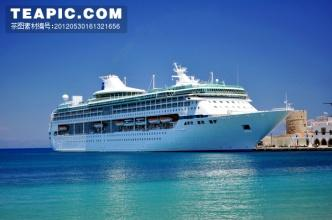youlun: (42, 60, 285, 151)
